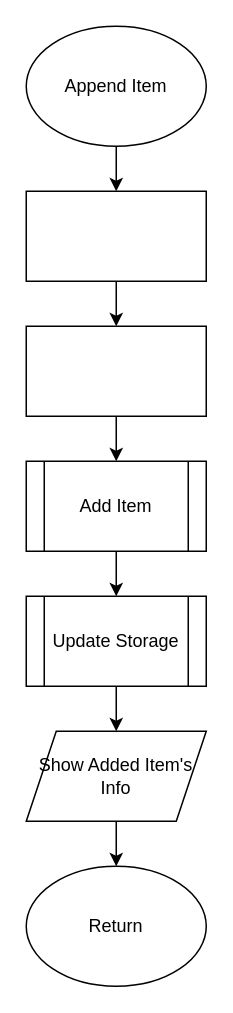
Image size: 233x1013. Some labels were removed from this diagram. Each missing label, with the centre of its shape:
Declare name, price, qty, data: the point at 115,235
Parse data into correct format for parsing: the point at 115,370
